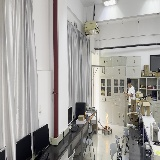fire: (104, 111, 109, 129)
